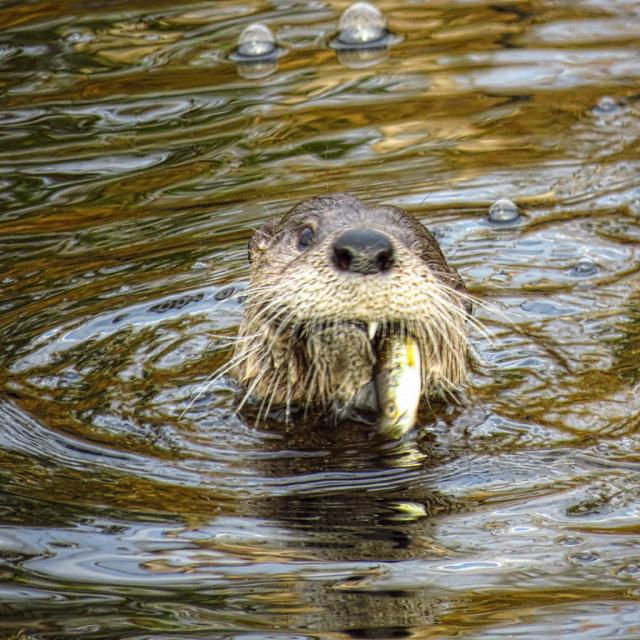otter: (239, 197, 468, 409)
